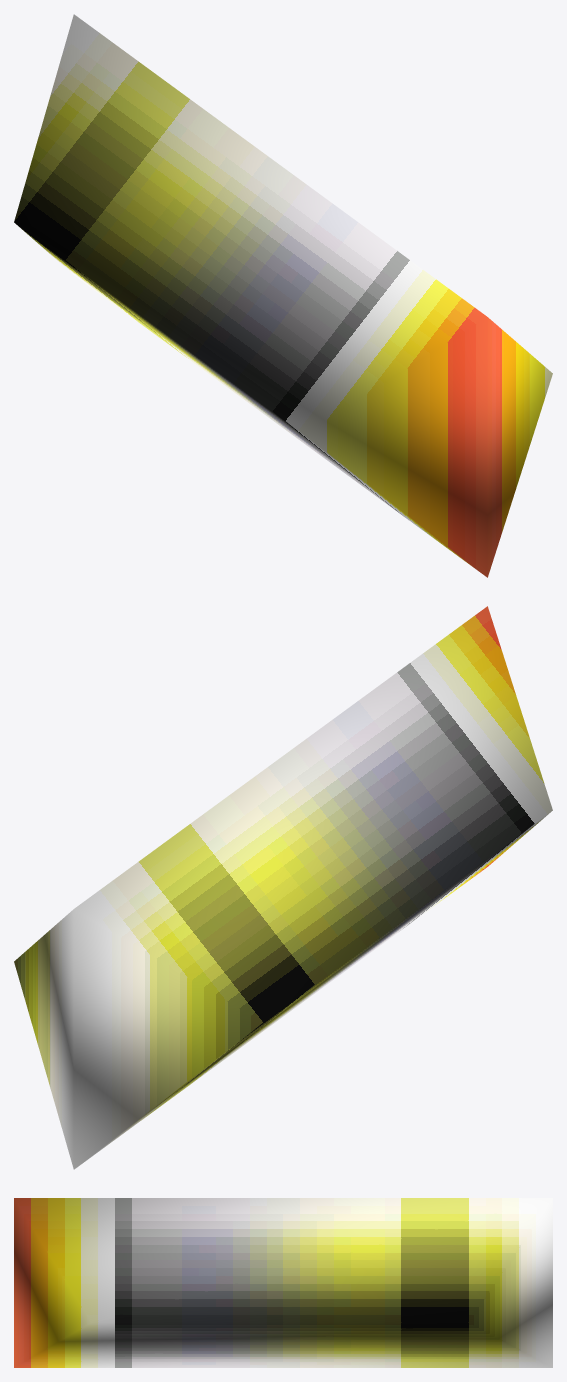
The model's file is TectonicTorpedoZ_Anim.glb.
The picture shows the model from 3 angles, top to bottom: view 1: azimuth 30°, elevation 25°; view 2: azimuth 150°, elevation 25°; view 3: azimuth 270°, elevation 25°; orthographic projection. The views are drawn at different scales.
Parts seen in each view (by area): view 1: TectonicTorpedoZ_Anim; view 2: TectonicTorpedoZ_Anim; view 3: TectonicTorpedoZ_Anim.
Boxes of the visible parts, bbox=[...] form: TectonicTorpedoZ_Anim: bbox=[14, 14, 552, 577]; TectonicTorpedoZ_Anim: bbox=[14, 606, 552, 1169]; TectonicTorpedoZ_Anim: bbox=[14, 1198, 552, 1367].
Bounding box in the file's own units: 4 × 4 × 11.5.
1 material, 1 textured.
